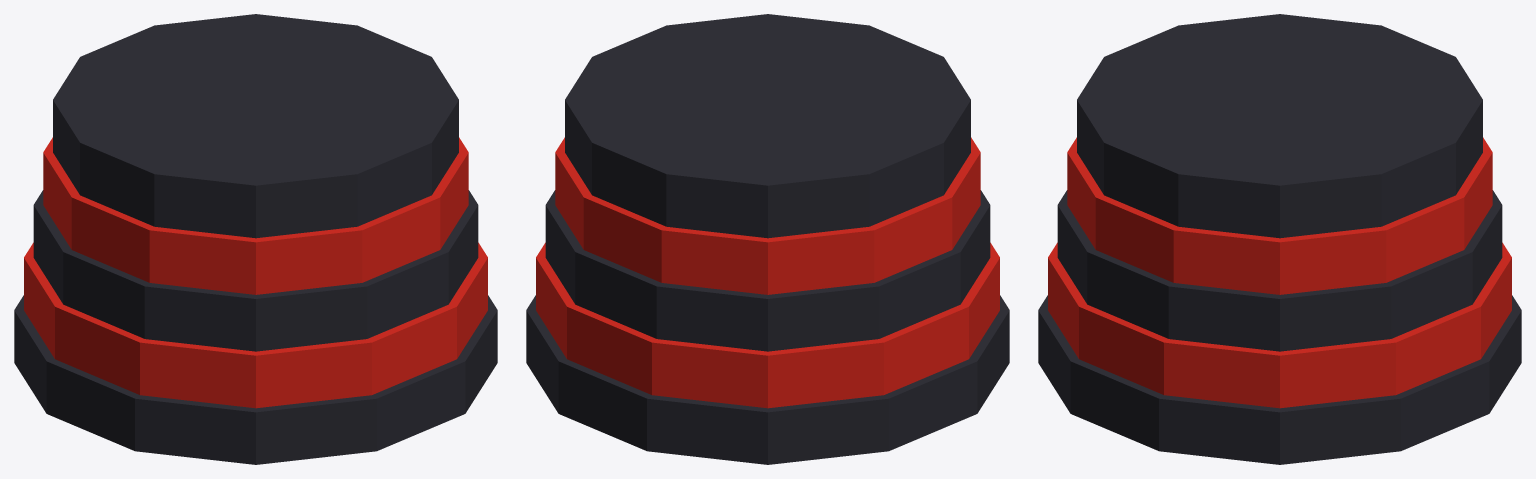
The model's file is weight_plate_stack.fbx.
3 views of the same model, side by side, from view 1: azimuth 30°, elevation 25°; view 2: azimuth 150°, elevation 25°; view 3: azimuth 270°, elevation 25° (orthographic).
Visible parts, largest first — view 1: weight_plate_stack; view 2: weight_plate_stack; view 3: weight_plate_stack.
Part boxes in pixels (x1=…): weight_plate_stack: x1=14, y1=14, x2=497, y2=464; weight_plate_stack: x1=526, y1=14, x2=1009, y2=464; weight_plate_stack: x1=1038, y1=14, x2=1521, y2=464.
Size of the model in its own units: 0.5 by 0.3 by 0.5.
